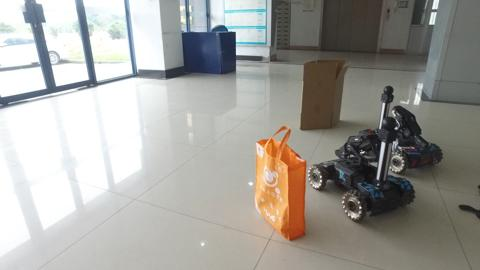bag: (253, 123, 309, 240)
box: (300, 57, 343, 133)
chariot: (311, 113, 418, 223), (371, 83, 443, 170)
